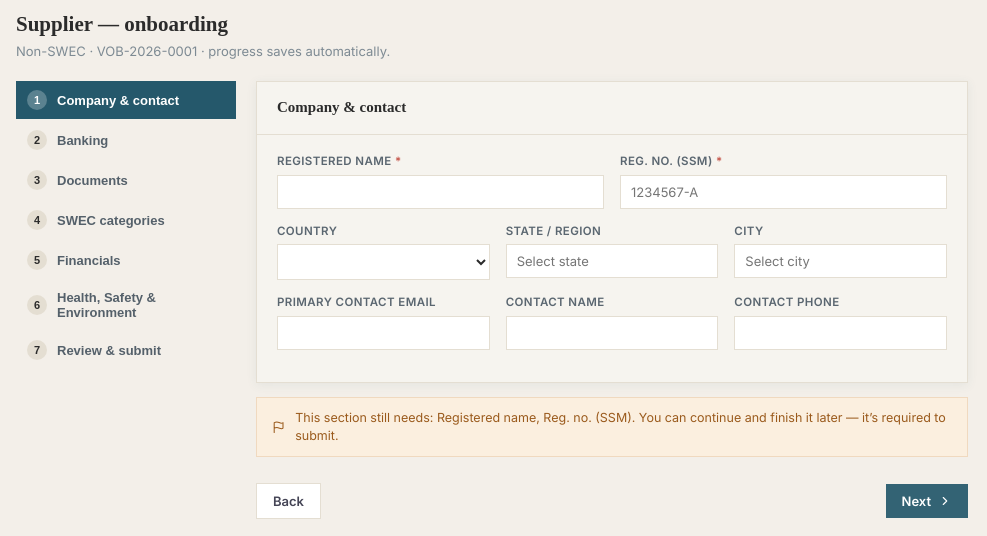
OnboardingForm (Slice C) › warns on an incomplete section but still lets you continue (progress autosaves)
Expected: the text "This section still needs" is shown, [295,410,437,425]
What coordinates should you click on to do the following:
click the button "Next"
I would click on:
 (927, 501)
Its box is [886,484,968,518].
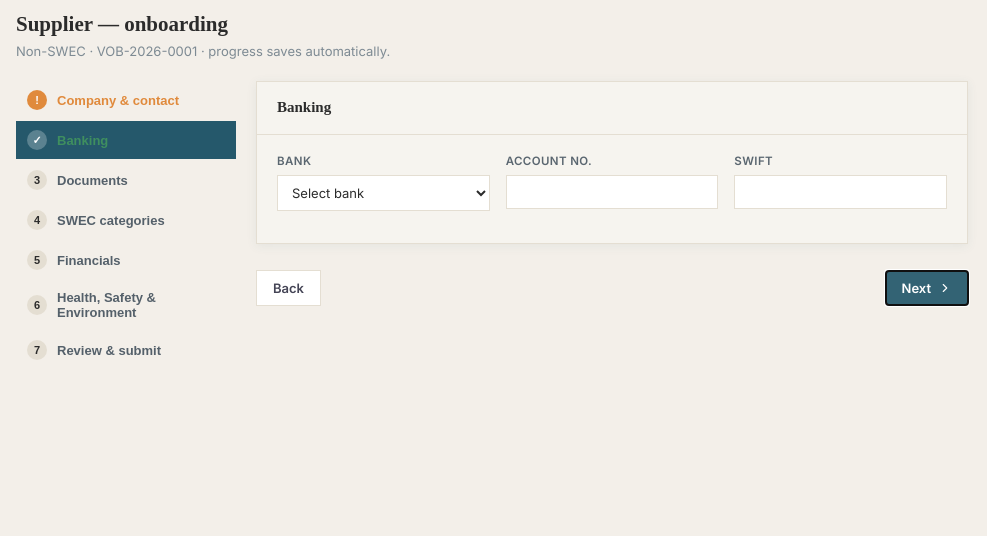
Expected: the dropdown labelled "Bank" is shown, [277,175,490,211]
